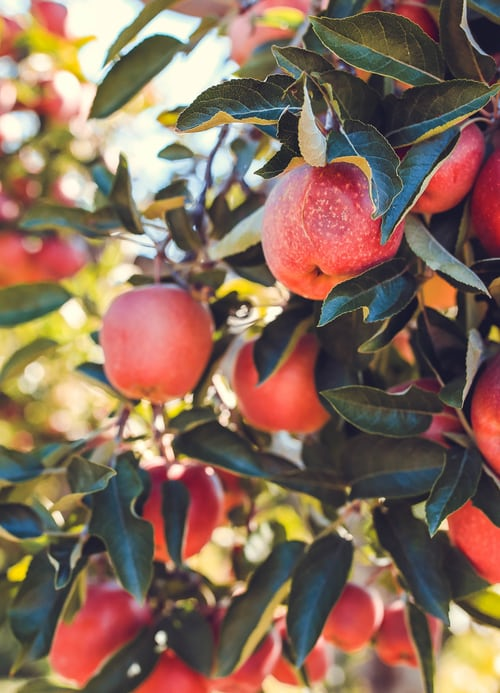apple: (261, 159, 409, 302), (98, 283, 217, 402), (126, 459, 222, 565), (389, 111, 485, 215), (452, 339, 500, 478), (317, 580, 383, 654), (467, 141, 500, 269)
